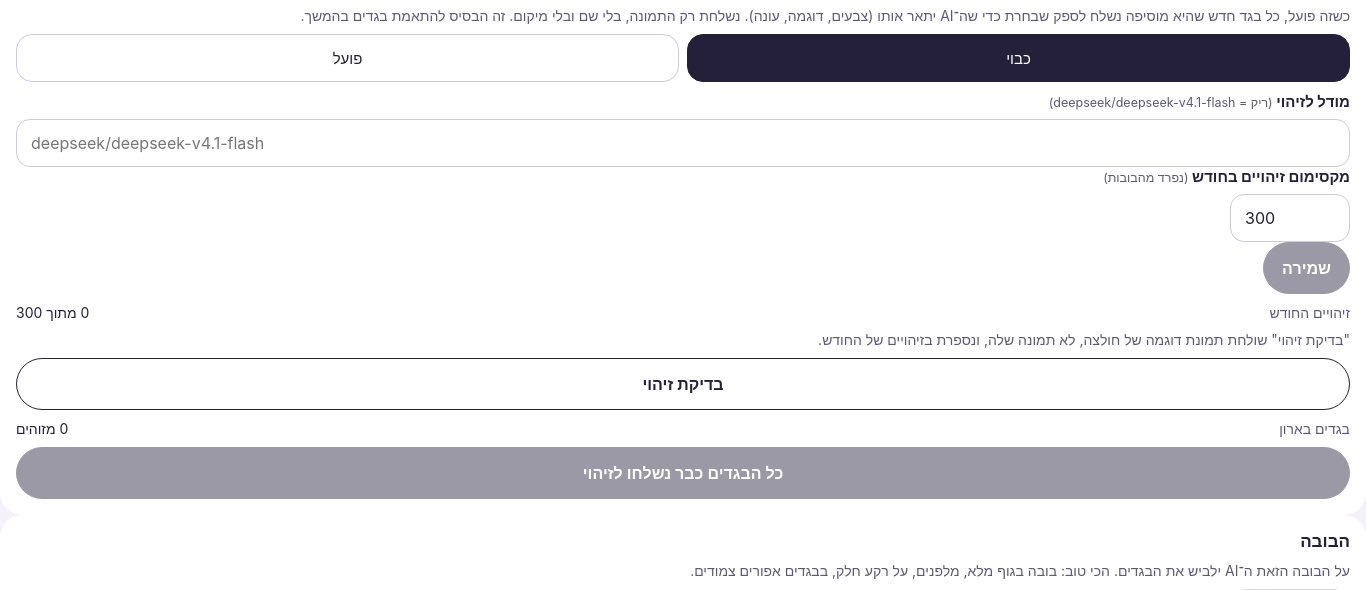
AnalysisPanel › explains a failure with the provider's words, counting it only when it may have cost money
This screenshot has width=1366, height=590.
(page scrolled)
Click the button "בדיקת זיהוי" at (683, 384), box [16,358,1350,410]
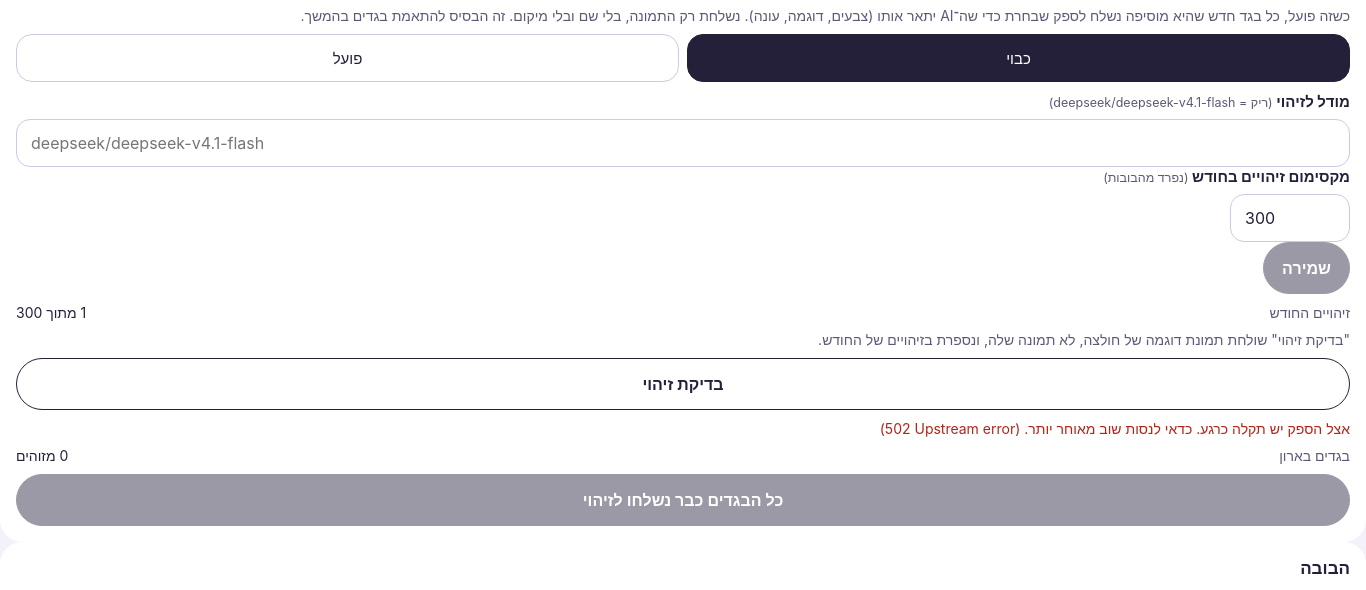
expect the text "אצל הספק יש תקלה כרגע. כדאי לנסות שוב מאוחר יותר. (502 Upstream error)" is shown: met, box [880,420,1350,437]
Click the button "בדיקת זיהוי" at (683, 384), box [16,358,1350,410]
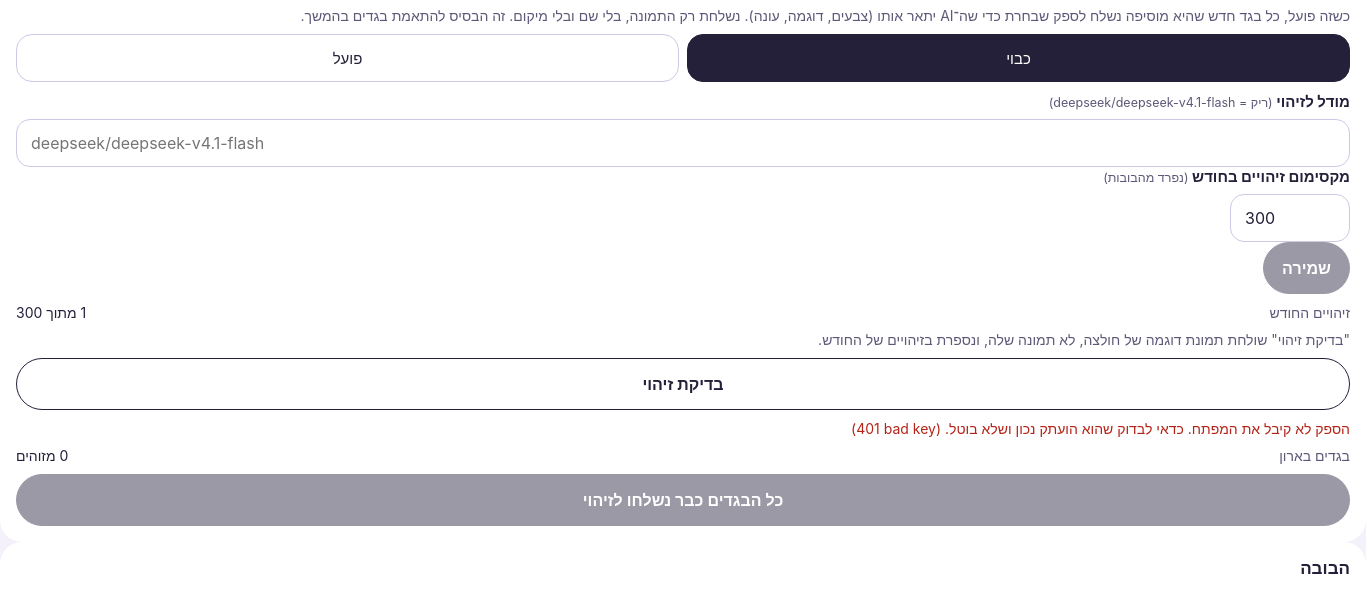
expect the text "הספק לא קיבל את המפתח. כדאי לבדוק שהוא הועתק נכון ושלא בוטל. (401 bad key)" is shown: met, box [851,420,1350,437]
